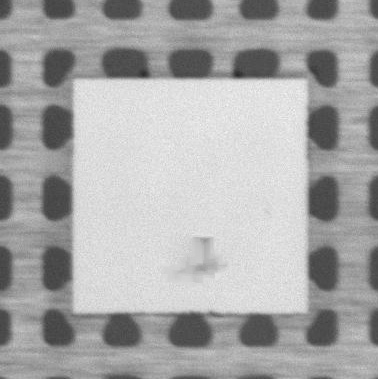DIE_INK: (167, 234, 222, 283)
